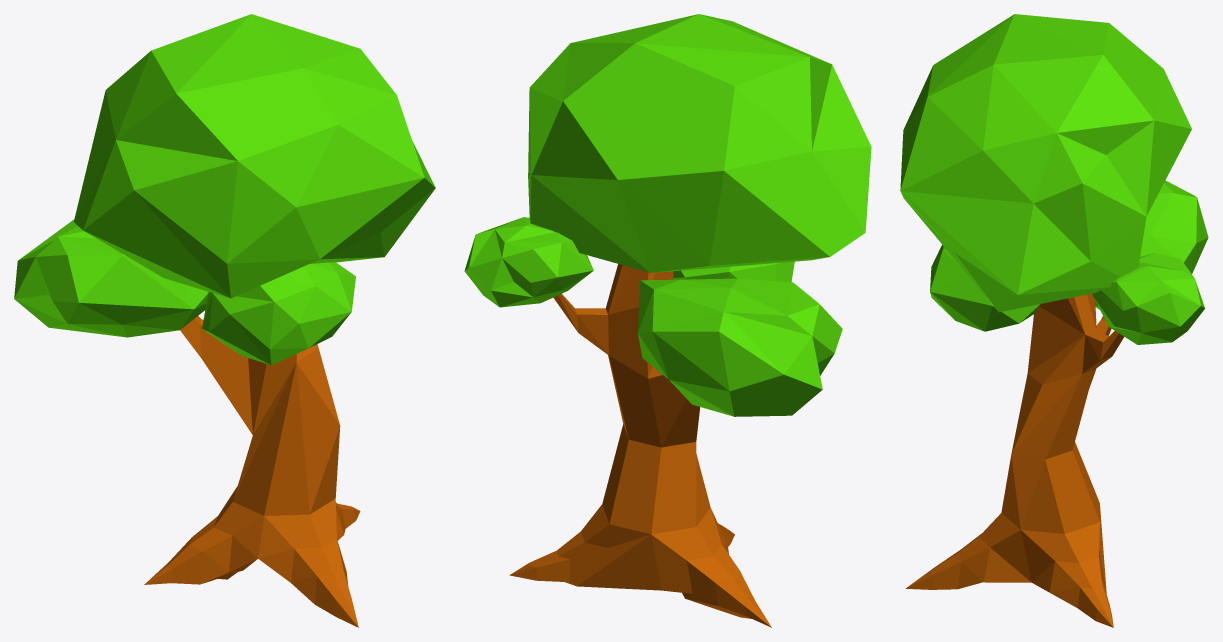
Rendered from Tree 2.FBX.
The picture shows the model from 3 angles, left to right: view 1: azimuth 30°, elevation 25°; view 2: azimuth 150°, elevation 25°; view 3: azimuth 270°, elevation 25°; orthographic projection. The views are drawn at different scales.
Visible parts, largest first — view 1: tree 2; view 2: tree 2; view 3: tree 2.
Part boxes in pixels (<box>): tree 2: <box>14,14,435,627</box>; tree 2: <box>464,14,871,627</box>; tree 2: <box>900,14,1208,627</box>.
Bounding box in the file's own units: 146 × 218 × 114.
